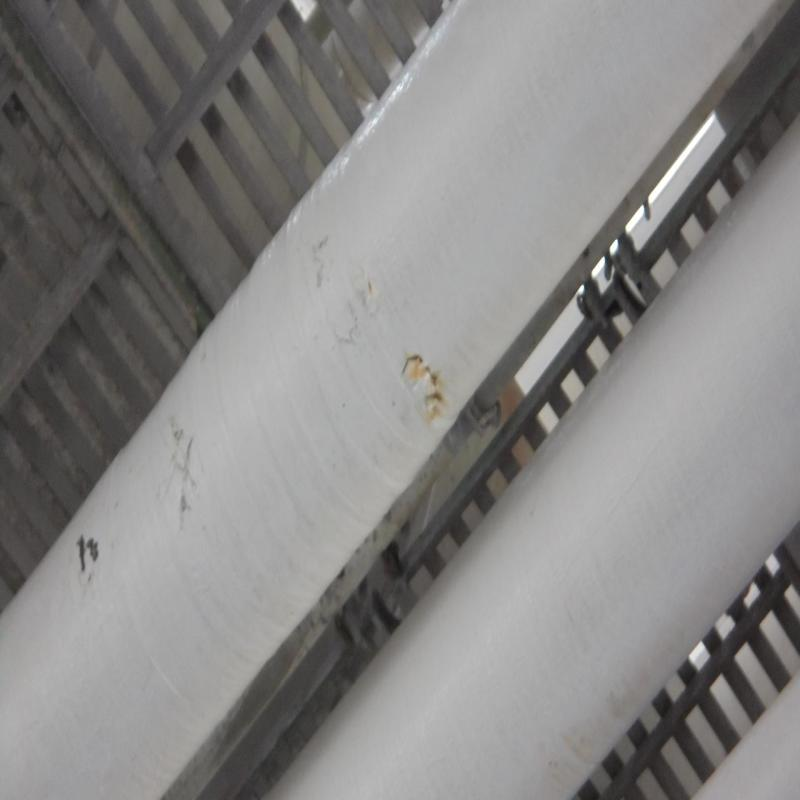corrosion: (412, 348, 439, 417)
